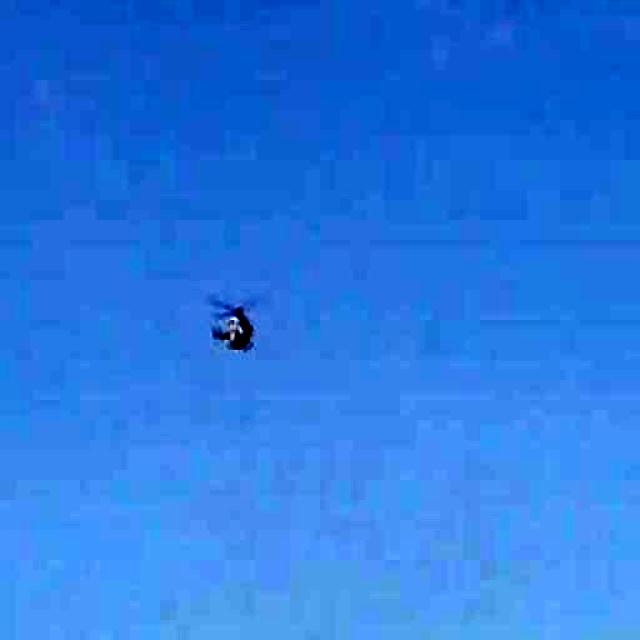drone: (191, 284, 291, 368)
